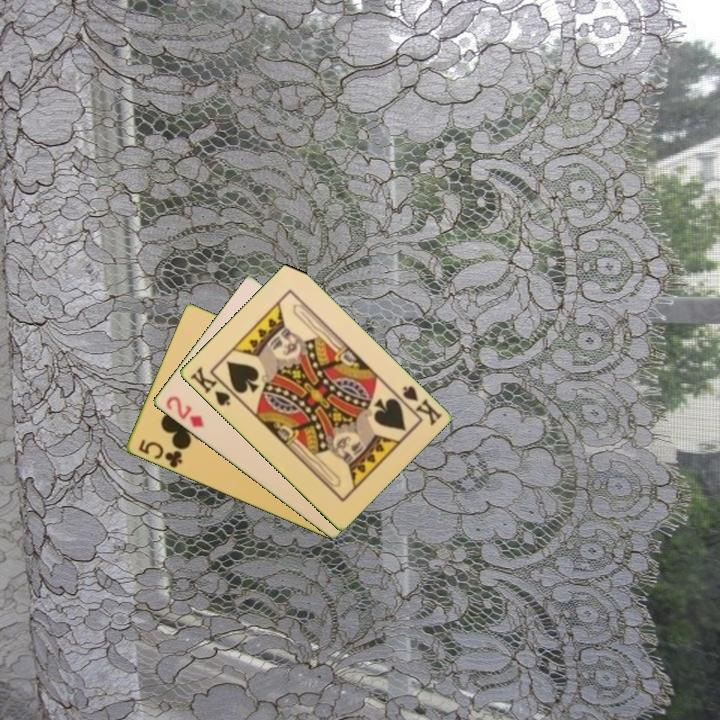2d: (162, 392, 207, 431)
5c: (134, 436, 185, 471)
Ks: (392, 382, 444, 429), (186, 363, 239, 409)
